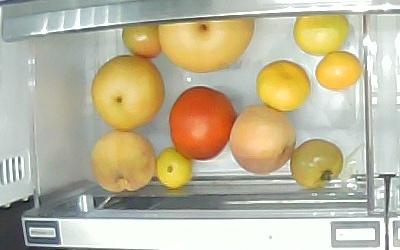peach: (228, 103, 295, 175), (91, 130, 155, 193)
pear: (91, 54, 165, 133), (157, 17, 255, 72)
tangerine: (256, 60, 310, 113), (293, 13, 349, 56), (315, 50, 362, 91), (156, 148, 191, 189)
tomato: (169, 86, 236, 161), (290, 139, 343, 189), (120, 22, 161, 57)
